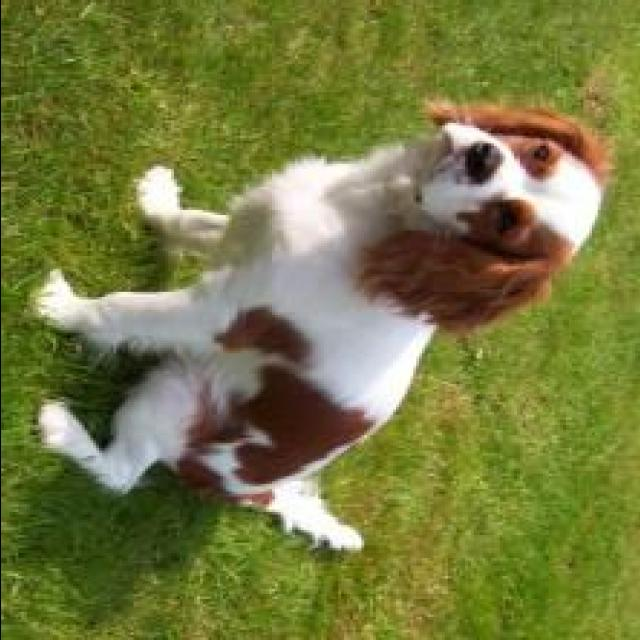blenheim_spaniel: (20, 94, 614, 558)
